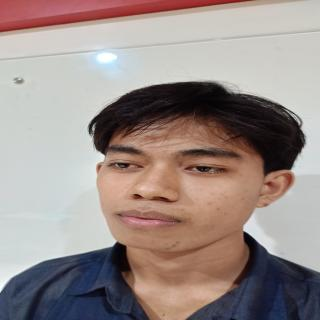Netral: (94, 109, 273, 259)
